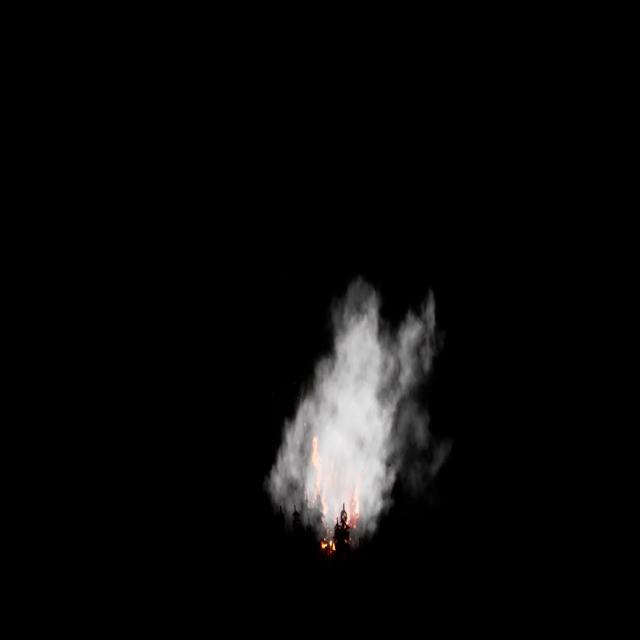fire: (310, 438, 364, 553)
smoke: (265, 284, 440, 534)
